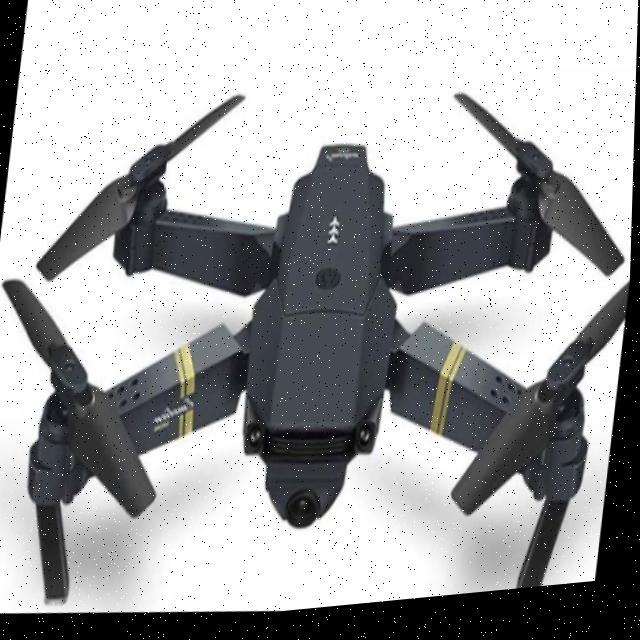drones: (0, 12, 639, 640)
